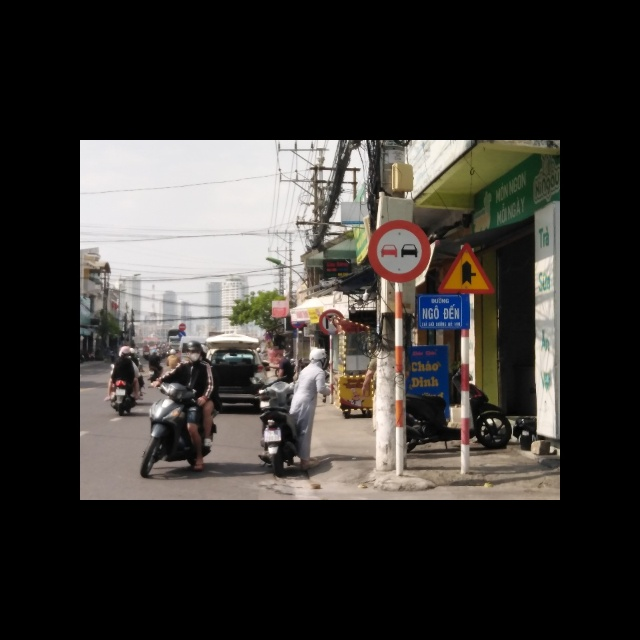Cấm vượt: (366, 219, 431, 284)
Giao nhau với đường không ưu tiên: (438, 239, 497, 295)
